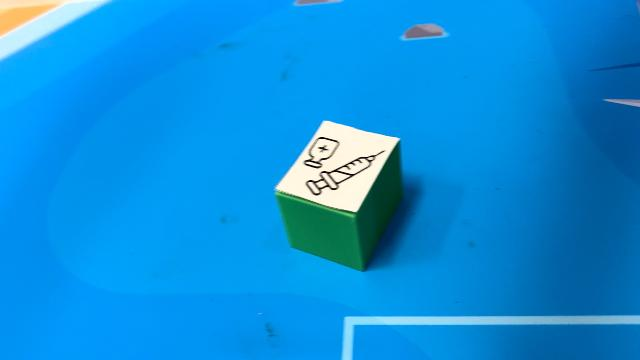syringe: (273, 119, 403, 271)
